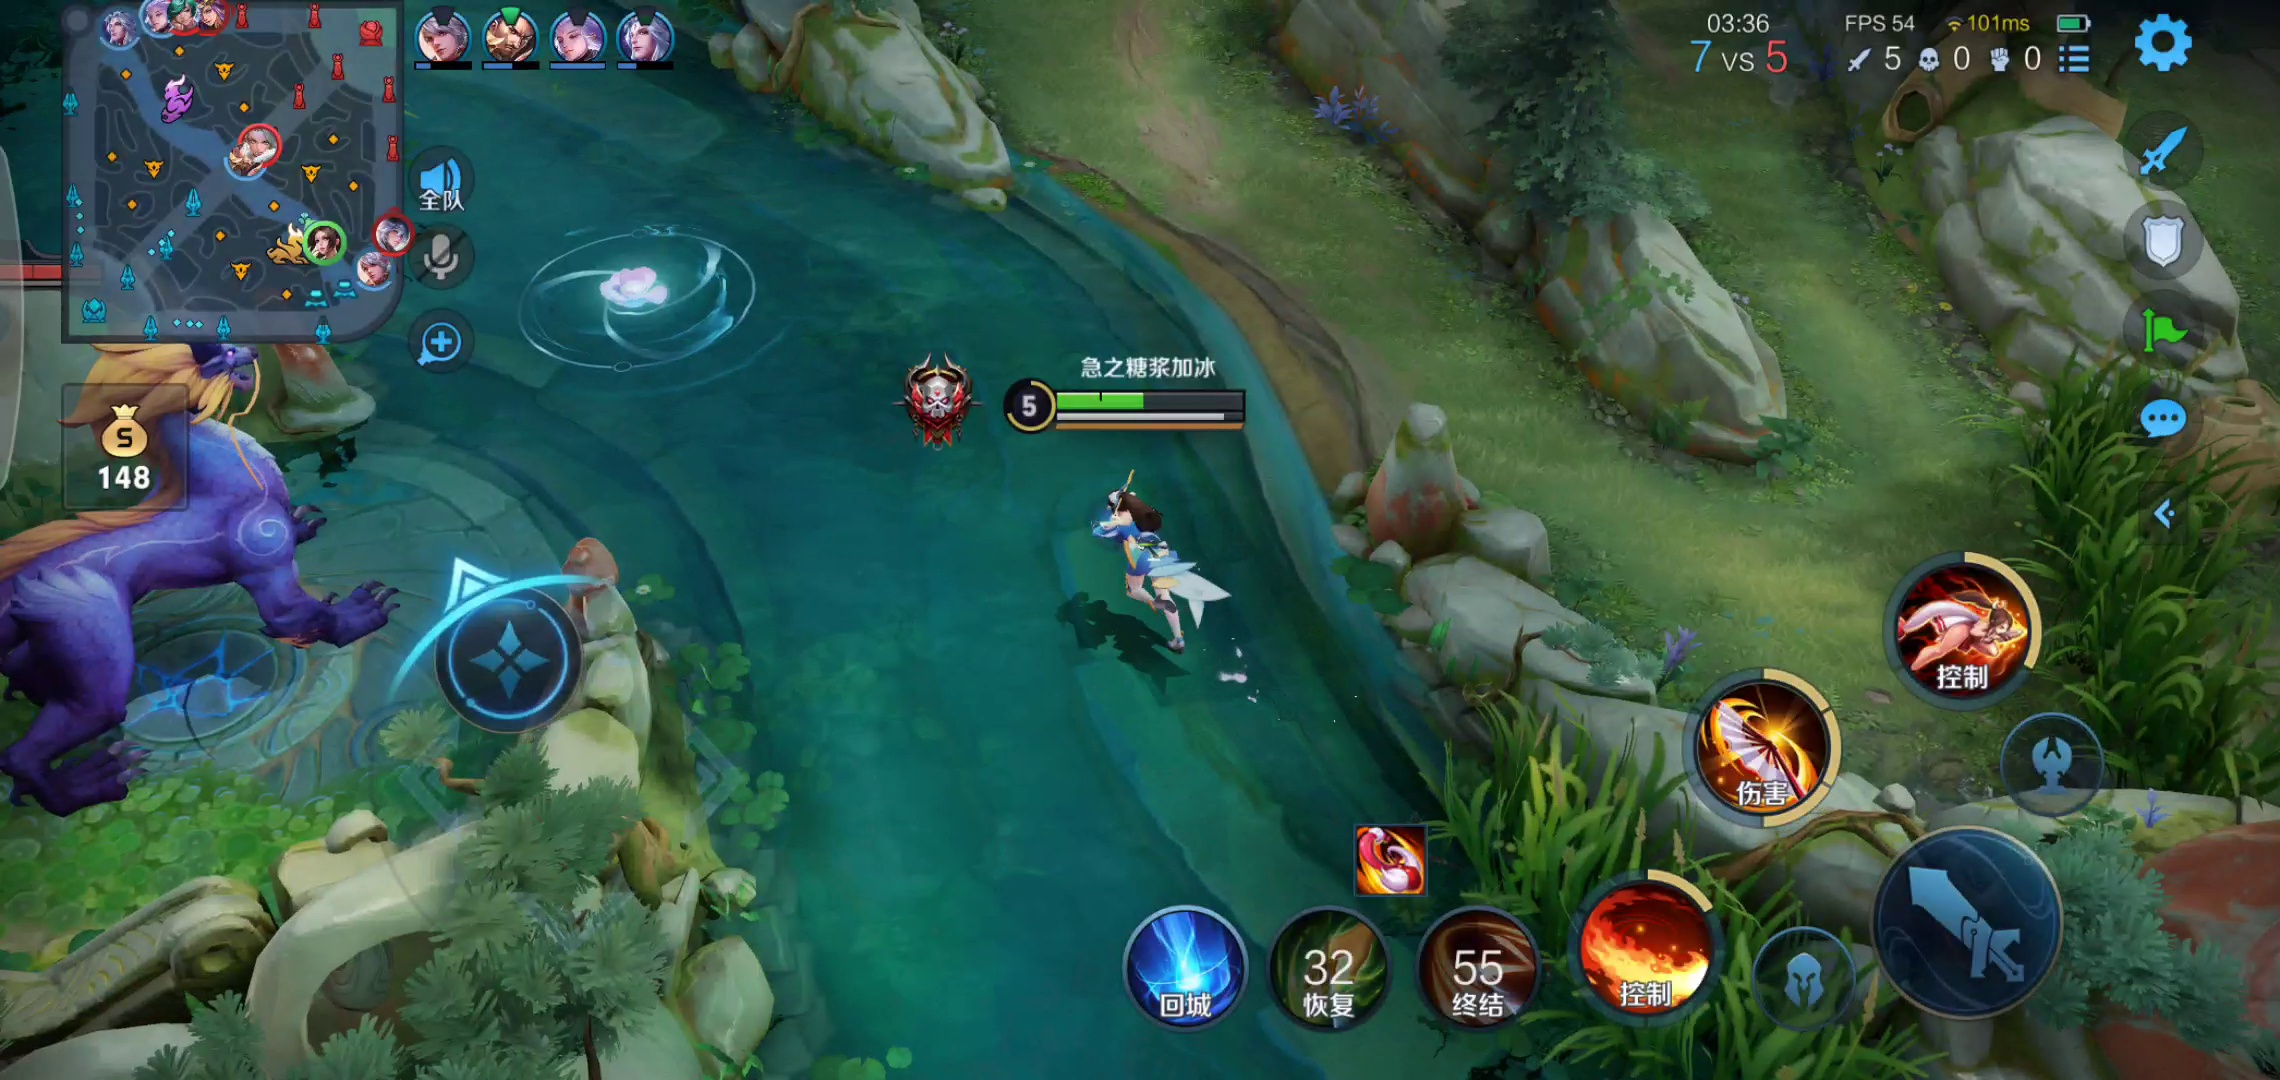dragon: (1, 297, 406, 802)
grass: (1392, 693, 1906, 1079), (1967, 339, 2265, 817)
hero: (1067, 470, 1245, 672)
